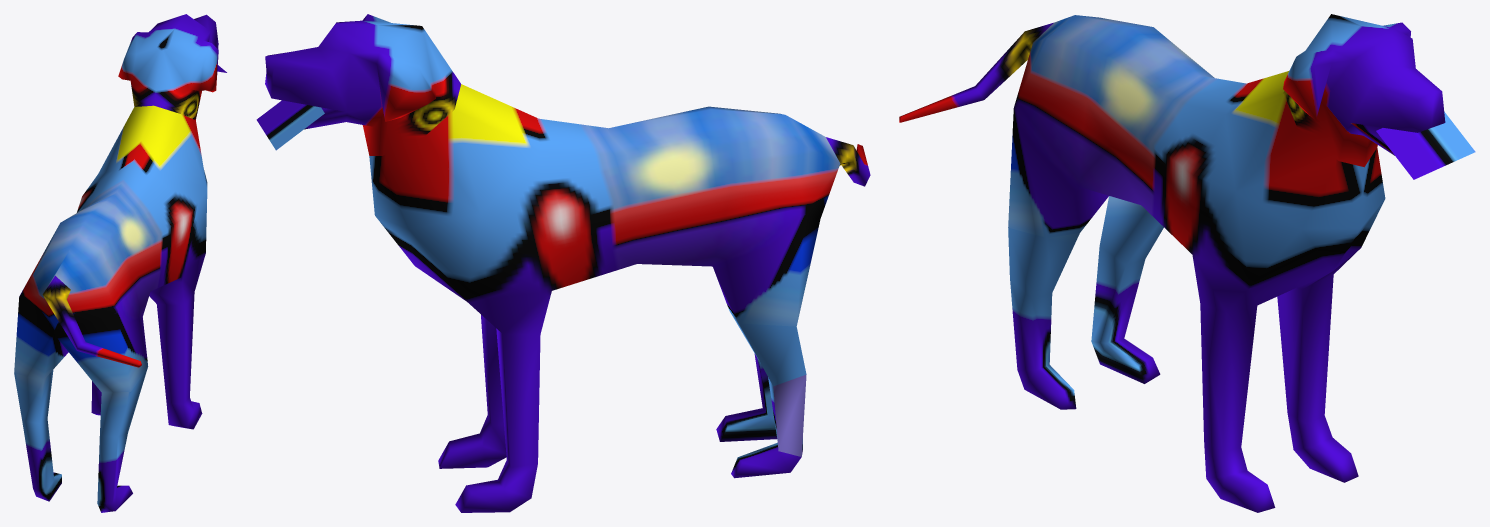
Rendered from mc1.ico.obj.
The picture shows the model from 3 angles, left to right: view 1: azimuth 30°, elevation 25°; view 2: azimuth 150°, elevation 25°; view 3: azimuth 270°, elevation 25°; orthographic projection. The views are drawn at different scales.
Bounding box in the file's own units: 3.02 × 3.28 × 3.43.
